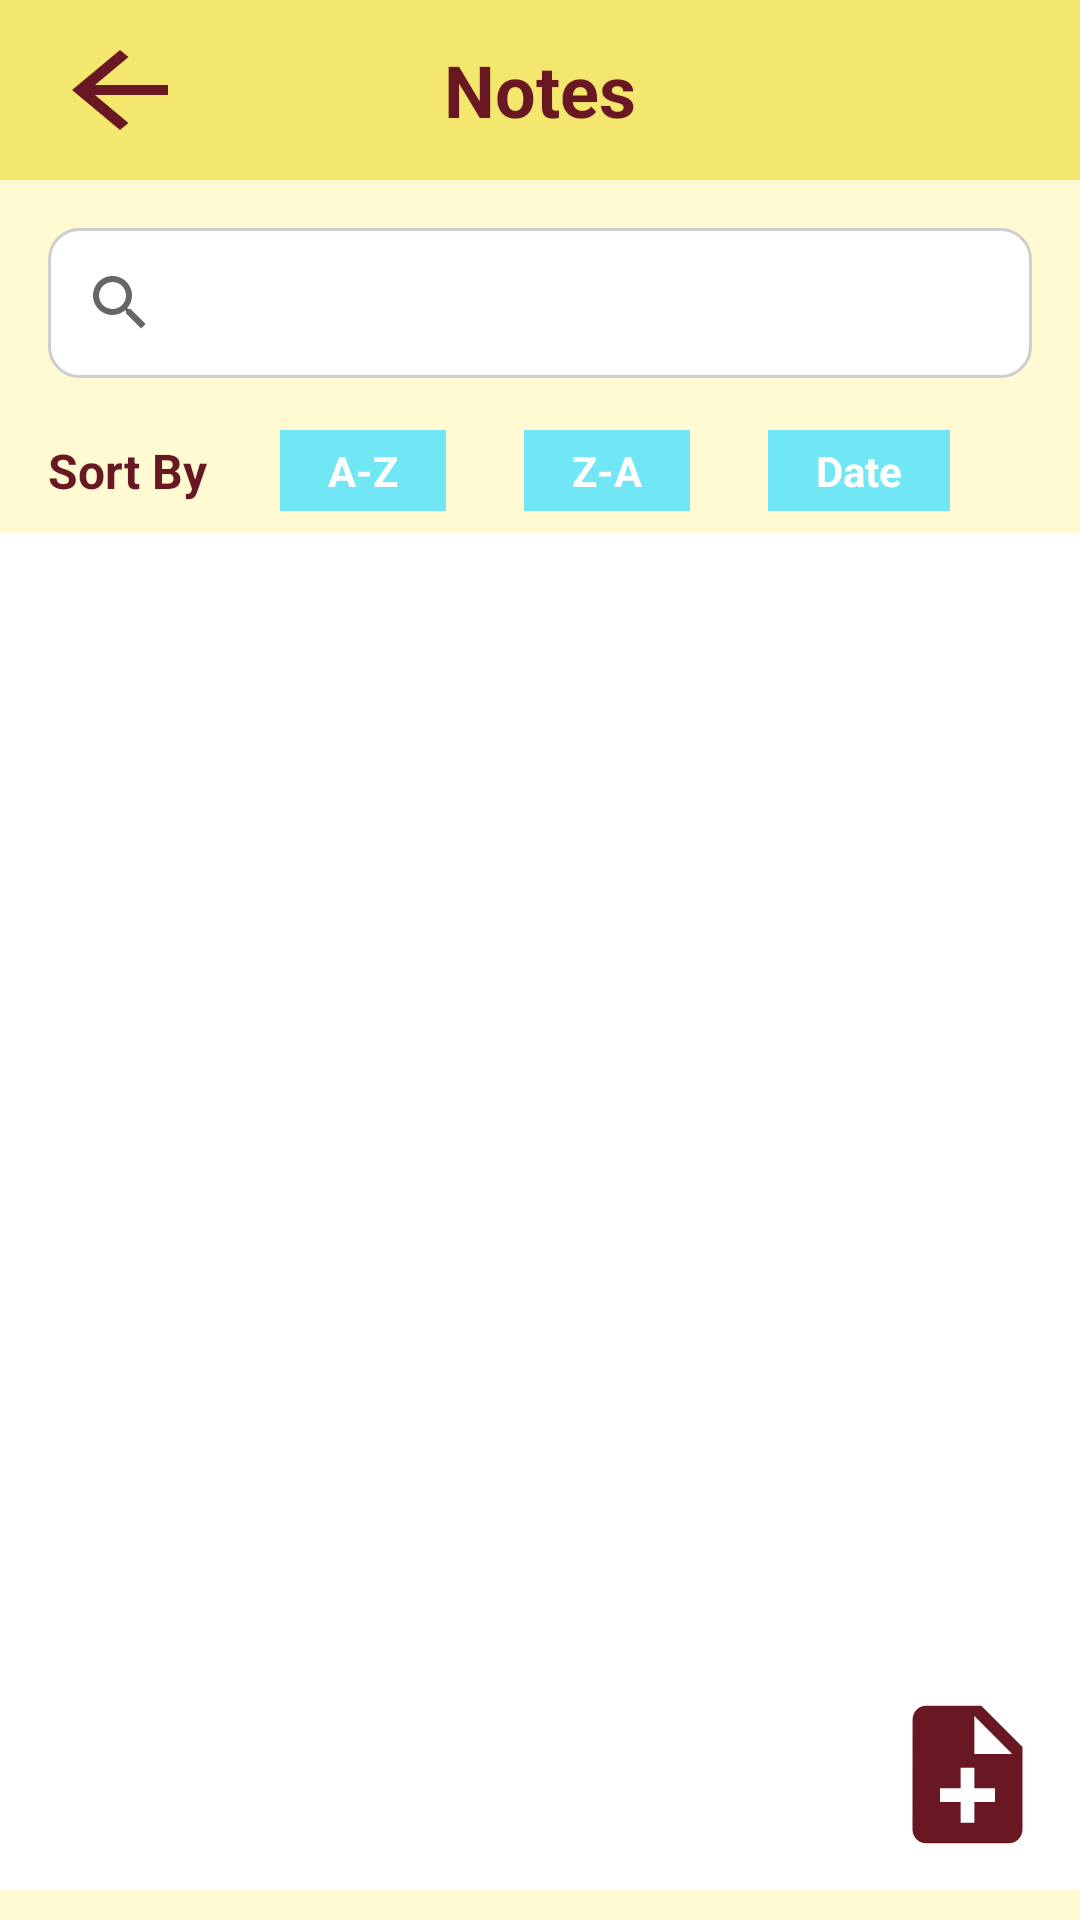

Screen size 1080 × 1920. Icon name, then its center in pixels as point (x, y):
back arrow: point (120, 90)
note add: point (967, 1774)
